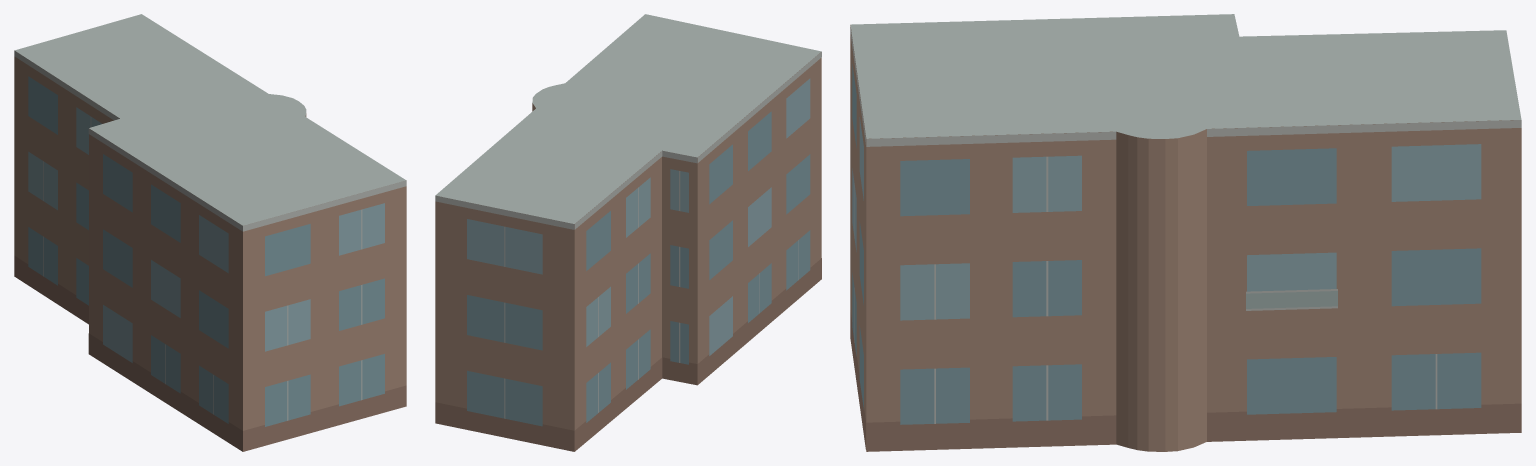
File: survey-upis-32696469.glb
3 renders of one model, left to right at view 1: azimuth 30°, elevation 25°; view 2: azimuth 150°, elevation 25°; view 3: azimuth 270°, elevation 25°, orthographic. The views are drawn at different scales.
Parts seen in each view (by area): view 1: survey-upis-32696469.tmp; view 2: survey-upis-32696469.tmp; view 3: survey-upis-32696469.tmp.
Boxes of the visible parts, x1,y1,x2,y2 form: survey-upis-32696469.tmp: (14,14,406,451); survey-upis-32696469.tmp: (435,14,821,451); survey-upis-32696469.tmp: (850,14,1521,451).
Bounding box in the file's own units: 8.1 × 9.45 × 18.38.
